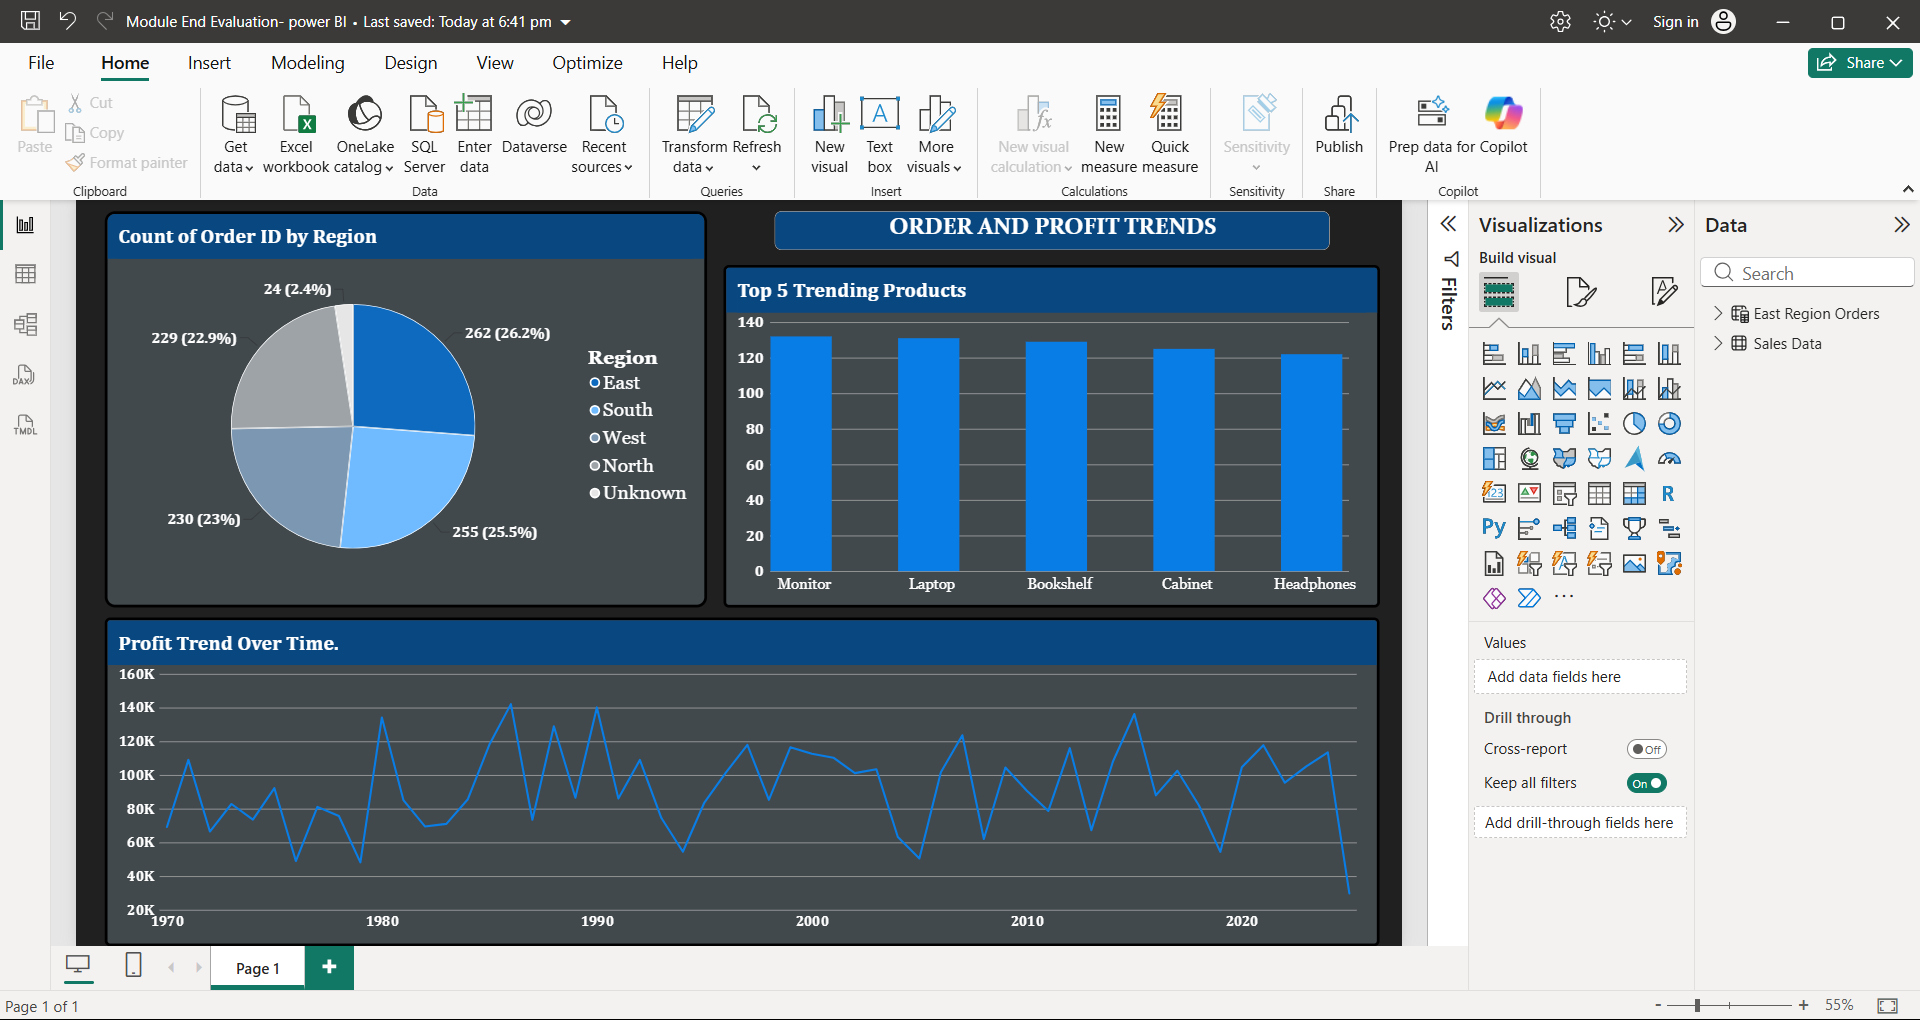

The page's visual inventory and layout, read from the dashboard file:
{"tool":"powerbi","page":{"name":"Page 1","canvas":[1920,1080],"ordinal":0},"visuals":[{"type":"pieChart","title":"Count of Order ID by Region","fields":{"Category":["SalesData_1000Rows_WithIssues_copy.Region"],"Y":["CountNonNull(Sales Data.OrderID)"]},"box":[41.6,16.3,872.3,573.7],"z":0},{"type":"clusteredColumnChart","title":"Top 5 Trending Products ","fields":{"Category":["SalesData_1000Rows_WithIssues_copy.Product"],"Y":["CountNonNull(Sales Data.OrderID)"]},"box":[937.4,94.1,950.1,495.8],"z":1},{"type":"lineChart","title":"Profit Trend Over Time.","fields":{"Category":["SalesData_1000Rows_WithIssues_copy.OrderDate.Variation.Date Hierarchy.Year"],"Y":["Sum(SalesData_1000Rows_WithIssues_copy.Calculated Profit)"]},"box":[41.6,604.4,1845.9,475.9],"z":2},{"type":"textbox","title":"ORDER AND PROFIT TRENDS","box":[1011.6,16.3,803.5,56.1],"z":3}]}

Visuals, with their boxes on the page's 1920x1080 design canvas (x1, y1, x2, y2). These are canvas units, not pixel positions in the 1920x1020 screenshot, which may show the page scaled, cropped or inside an application window:
"Count of Order ID by Region" pieChart: detection(42, 16, 914, 590)
"Top 5 Trending Products " clusteredColumnChart: detection(937, 94, 1888, 590)
"Profit Trend Over Time." lineChart: detection(42, 604, 1888, 1080)
"ORDER AND PROFIT TRENDS" textbox: detection(1012, 16, 1815, 72)
